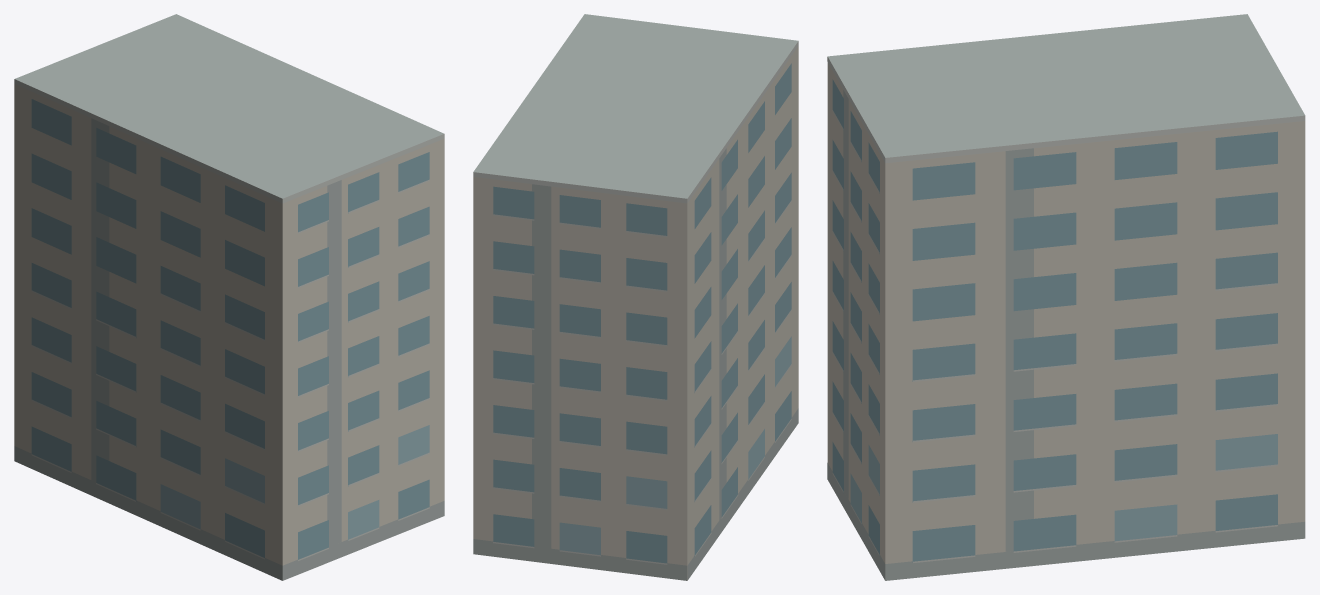
Rendered from survey-upis-32807568.glb.
3 renders of one model, left to right at view 1: azimuth 30°, elevation 25°; view 2: azimuth 150°, elevation 25°; view 3: azimuth 270°, elevation 25°, orthographic. The views are drawn at different scales.
Visible parts, largest first — view 1: survey-upis-32807568.tmp; view 2: survey-upis-32807568.tmp; view 3: survey-upis-32807568.tmp.
Boxes of the visible parts, <box> form: survey-upis-32807568.tmp: <box>14,14,444,580</box>; survey-upis-32807568.tmp: <box>473,14,798,580</box>; survey-upis-32807568.tmp: <box>827,14,1305,580</box>.
Bounding box in the file's own units: 14.17 × 19.4 × 19.87.
